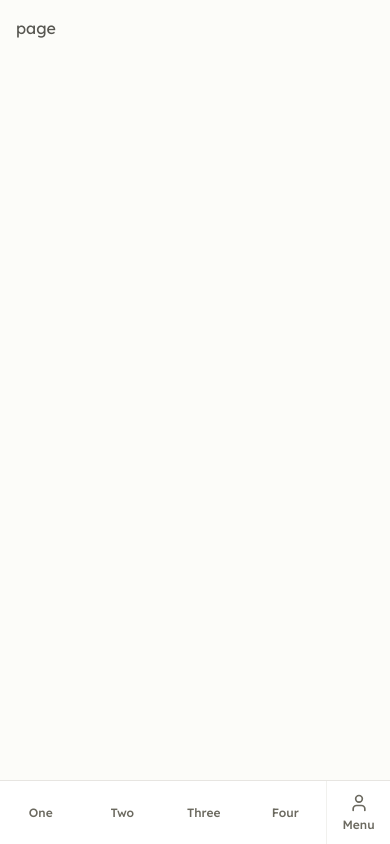
it: DashboardLayout phone bottom bar › keeps four tabs and moves the rest into the Menu sheet, so Menu stays on screen
Click the button with aria-label "Open menu": (358, 812) top-left (327, 781), bottom-right (389, 843)
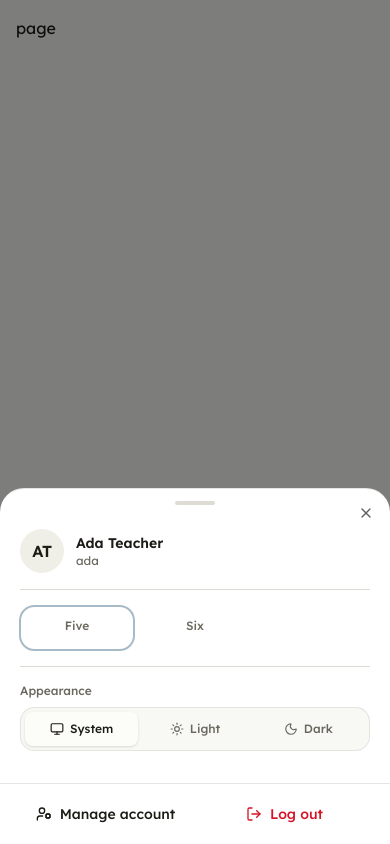
Now the button "Five" is shown, box top-left (20, 606), bottom-right (134, 650)
Now the button "Six" is shown, box top-left (138, 606), bottom-right (252, 650)
